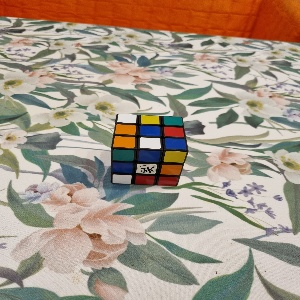cube: (112, 113, 189, 186)
